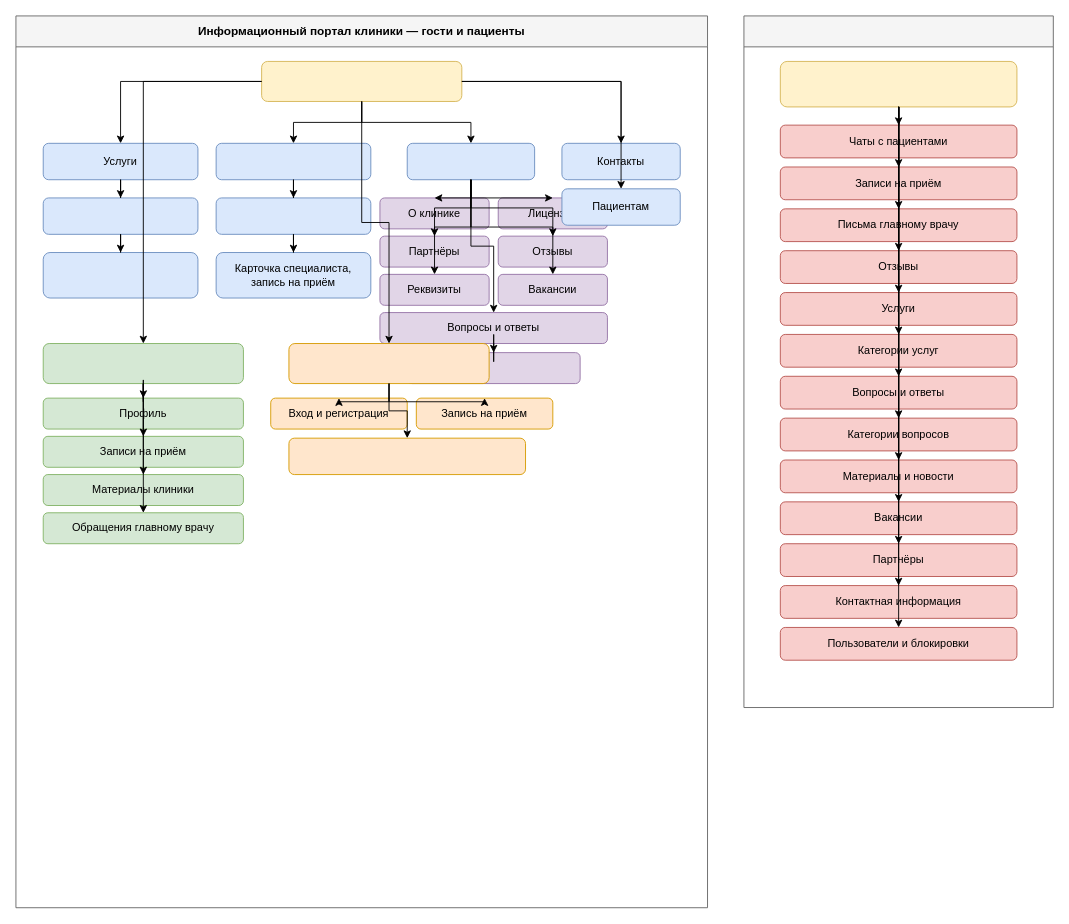
Image size: 1069x924. Some labels were removed from this diagram. Here are the shapes that lost their labels. From the top down, the box of each, then its label:
(261, 61, 462, 101): Главная страница
(779, 61, 1017, 107): Главная панели, управление специалистами
(215, 142, 371, 180): Специалисты
(406, 142, 535, 180): Клиника
(42, 197, 198, 234): Категория услуг
(215, 197, 371, 234): Направление / категория
(42, 252, 198, 298): Карточка услуги, запись на приём
(42, 343, 243, 384): Личный кабинет пациента
(288, 343, 489, 384): Сквозной функционал
(406, 352, 580, 384): Категория вопросов
(743, 15, 1053, 708): Административная панель
(288, 437, 526, 475): ИИ-помощник и чат с оператором
